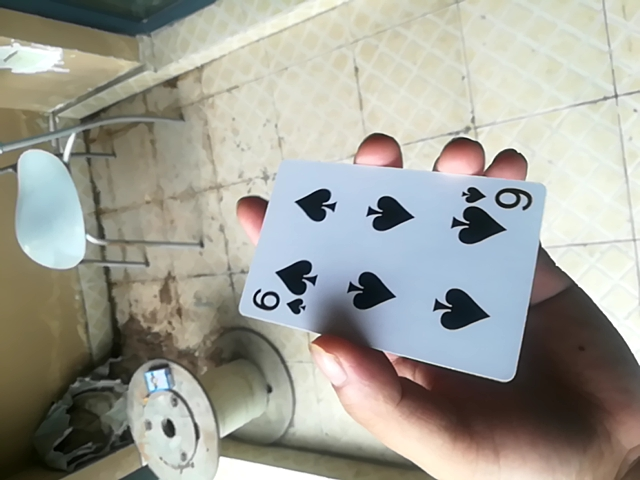ht 6: (234, 158, 557, 388)
